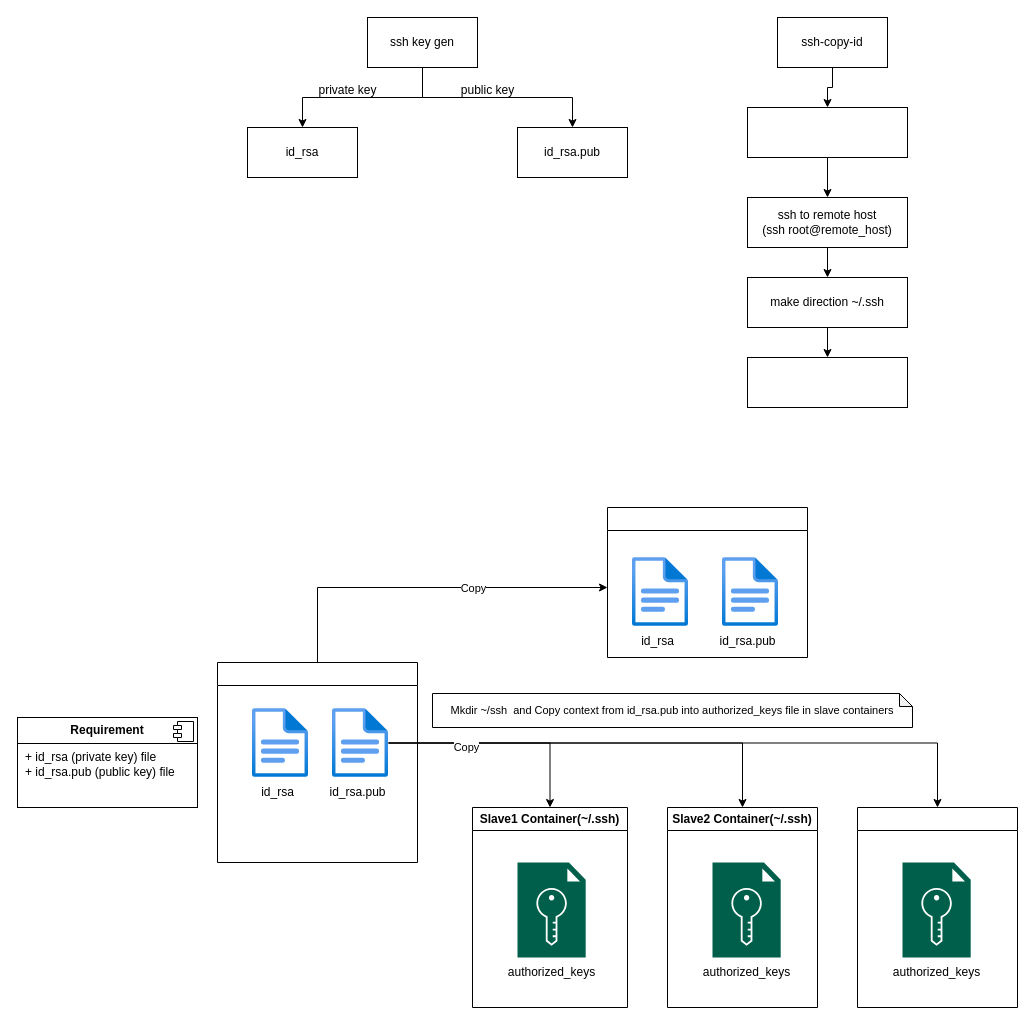
This 1035x1025 diagram has some shape labels left out. Here are the shapes that lost their labels. From the top down, the box of each, then its label:
(746, 106, 908, 158): copy context (KEY) in id_rsa.pub
(746, 356, 908, 408): paste KEY into authorized_keys file
(606, 506, 808, 658): Master Container (~/.ssh)
(216, 662, 418, 862): Outside
(856, 806, 1018, 1008): Slave3 Container(~/.ssh)
